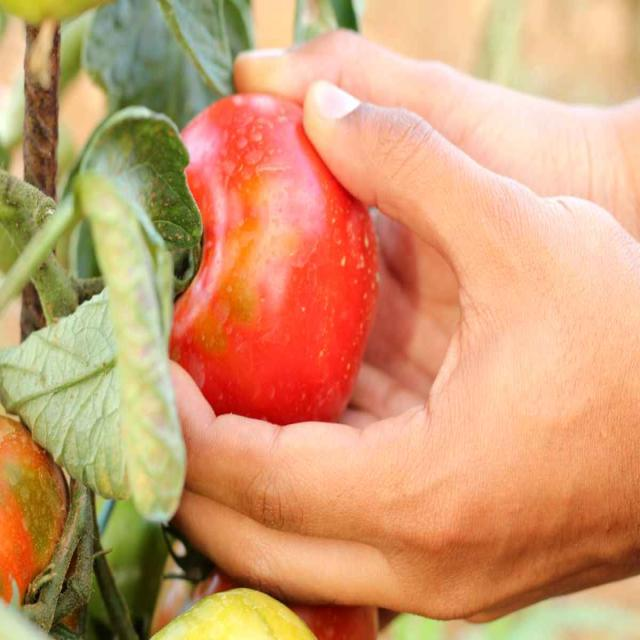kirmizi: (154, 72, 402, 434)
